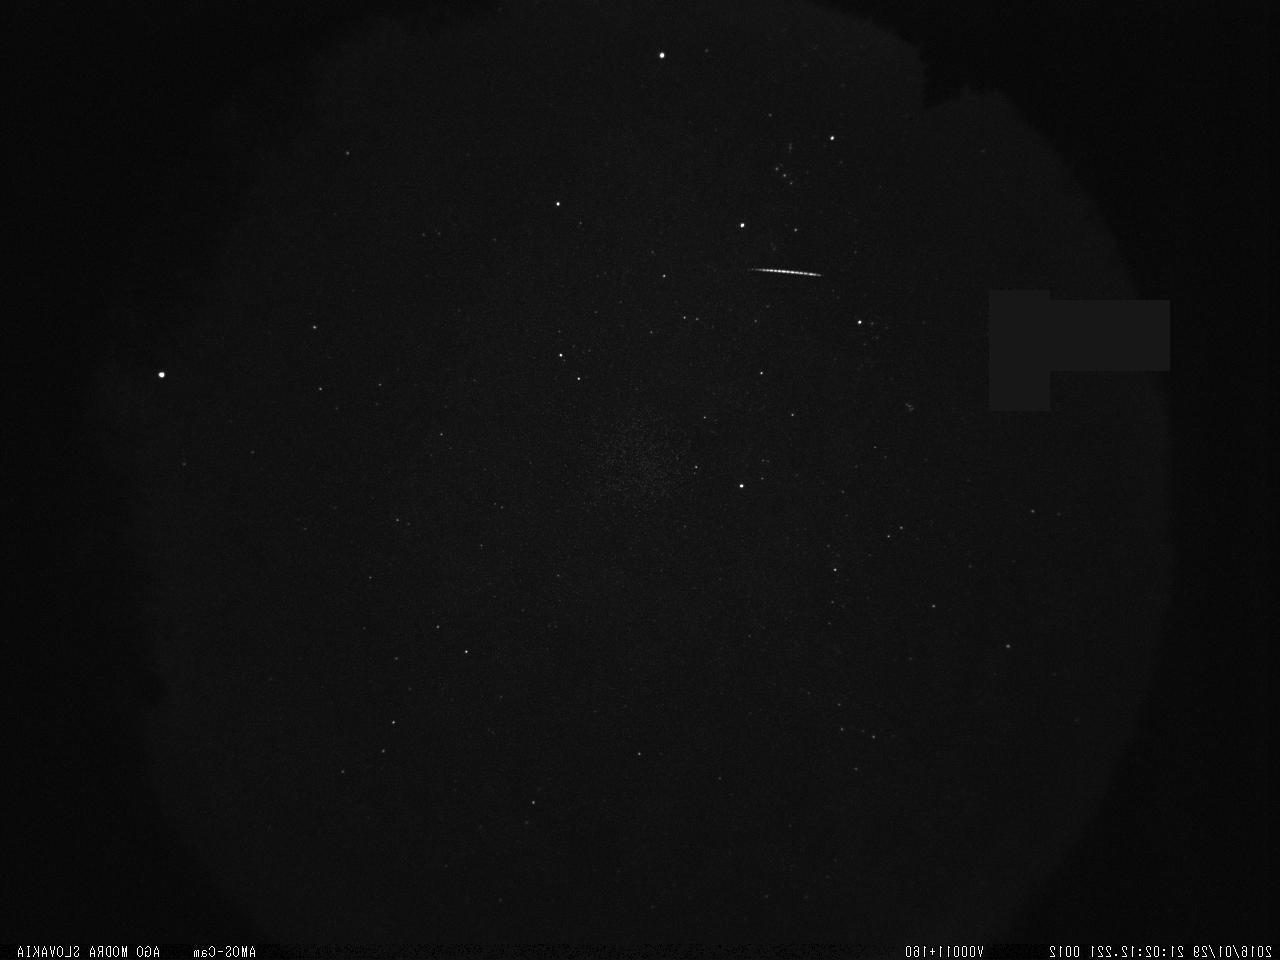meteor: (739, 262, 825, 288)
